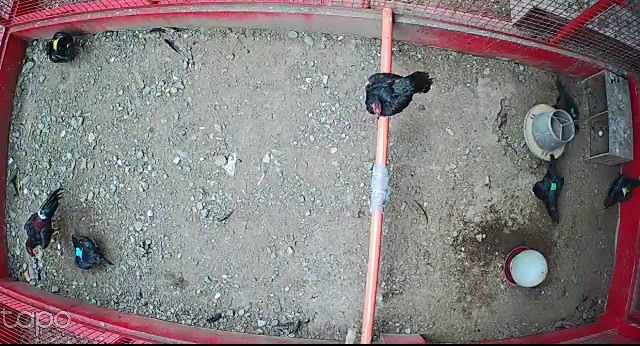Chicken: (362, 64, 432, 122), (536, 147, 567, 232), (545, 73, 584, 138), (68, 232, 115, 272), (602, 168, 640, 212), (40, 29, 86, 65)
Drinker: (506, 248, 548, 285)
Feeder: (524, 102, 574, 163)
Rooster: (22, 182, 67, 260)
Saddle_Color_Blue: (75, 247, 85, 258)
Saddle_Color_Green: (550, 181, 558, 191)
Saddle_Color_Yellow: (52, 39, 60, 50)
Saddle_Color_YellowGreen: (622, 186, 628, 196)
